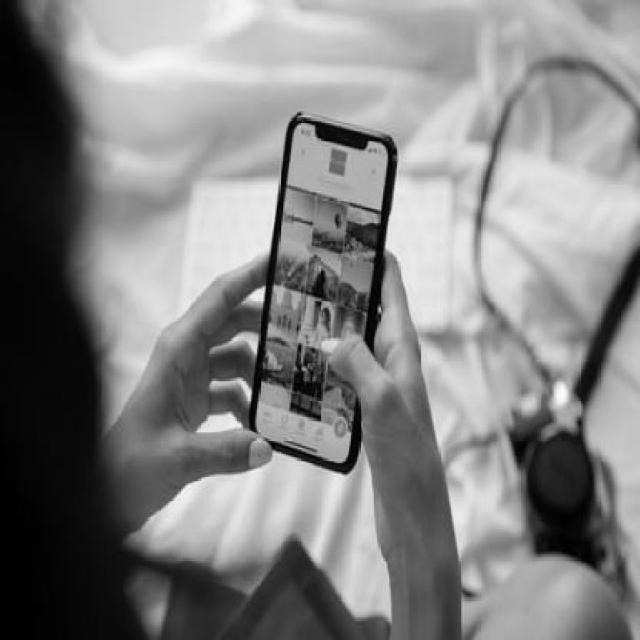fake: (244, 109, 398, 463)
